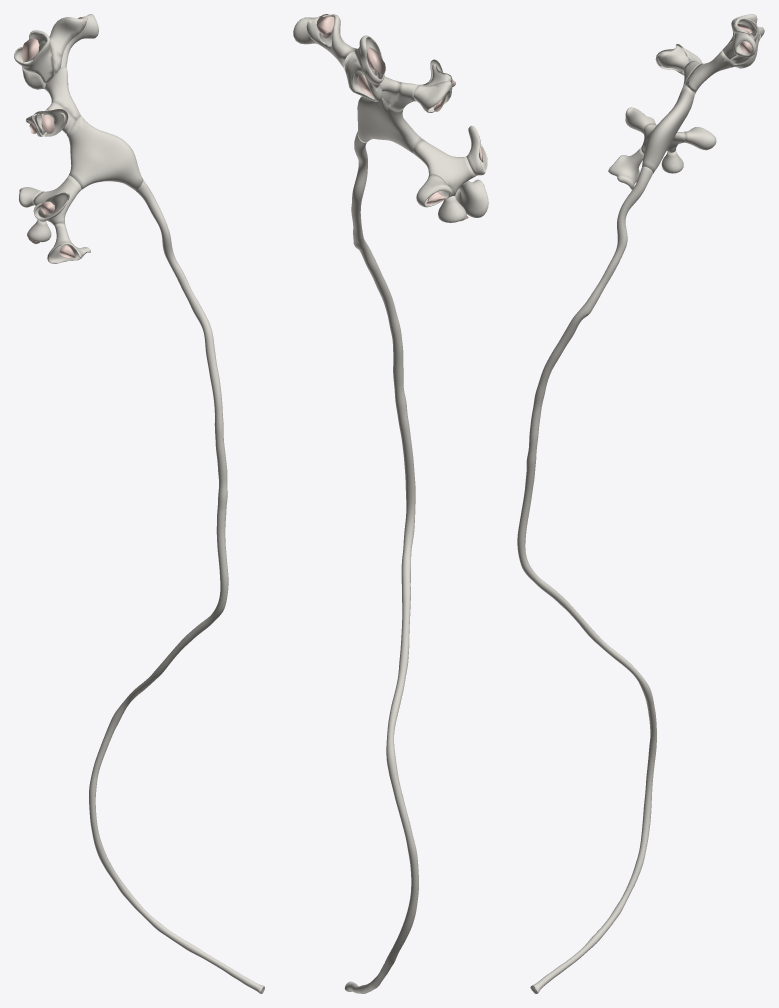
Rendered from vh_f_ureter_r-80.glb.
3 views of the same model, side by side, from view 1: azimuth 30°, elevation 25°; view 2: azimuth 150°, elevation 25°; view 3: azimuth 270°, elevation 25° (orthographic). The views are drawn at different scales.
Visible parts, largest first — view 1: VH_F_right_ureter, VH_F_renal_pelvis_R, VH_F_minor_calyx_R_b, VH_F_minor_calyx_R_d, VH_F_major_calyx_R_a, VH_F_major_calyx_R_c, VH_F_minor_calyx_R_j, VH_F_minor_calyx_R_f; view 2: VH_F_right_ureter, VH_F_renal_pelvis_R, VH_F_major_calyx_R_c, VH_F_minor_calyx_R_b, VH_F_minor_calyx_R_j, VH_F_minor_calyx_R_c, VH_F_minor_calyx_R_e, VH_F_minor_calyx_R_d, VH_F_minor_calyx_R_g, VH_F_minor_calyx_R_i, VH_F_minor_calyx_R_h, VH_F_major_calyx_R_b; view 3: VH_F_right_ureter, VH_F_renal_pelvis_R, VH_F_minor_calyx_R_j, VH_F_major_calyx_R_a, VH_F_minor_calyx_R_f.
Boxes of the visible parts, x1=… form: VH_F_right_ureter: x1=89, y1=180, x2=264, y2=993; VH_F_renal_pelvis_R: x1=67, y1=116, x2=143, y2=190; VH_F_minor_calyx_R_b: x1=49, y1=16, x2=87, y2=75; VH_F_minor_calyx_R_d: x1=14, y1=30, x2=53, y2=83; VH_F_major_calyx_R_a: x1=44, y1=66, x2=80, y2=120; VH_F_major_calyx_R_c: x1=33, y1=175, x2=81, y2=225; VH_F_minor_calyx_R_j: x1=47, y1=223, x2=90, y2=263; VH_F_minor_calyx_R_f: x1=33, y1=109, x2=68, y2=136; VH_F_right_ureter: x1=344, y1=132, x2=418, y2=993; VH_F_renal_pelvis_R: x1=357, y1=96, x2=422, y2=153; VH_F_major_calyx_R_c: x1=412, y1=139, x2=475, y2=196; VH_F_minor_calyx_R_b: x1=306, y1=14, x2=356, y2=72; VH_F_minor_calyx_R_j: x1=455, y1=179, x2=488, y2=217; VH_F_minor_calyx_R_c: x1=344, y1=51, x2=382, y2=101; VH_F_minor_calyx_R_e: x1=414, y1=81, x2=452, y2=112; VH_F_minor_calyx_R_d: x1=354, y1=35, x2=384, y2=88; VH_F_minor_calyx_R_g: x1=416, y1=174, x2=452, y2=207; VH_F_minor_calyx_R_i: x1=466, y1=125, x2=487, y2=175; VH_F_minor_calyx_R_h: x1=438, y1=196, x2=466, y2=222; VH_F_major_calyx_R_b: x1=390, y1=82, x2=418, y2=110; VH_F_right_ureter: x1=517, y1=166, x2=656, y2=993; VH_F_renal_pelvis_R: x1=642, y1=85, x2=694, y2=173; VH_F_minor_calyx_R_j: x1=608, y1=147, x2=644, y2=189; VH_F_major_calyx_R_a: x1=684, y1=49, x2=734, y2=94; VH_F_minor_calyx_R_f: x1=655, y1=44, x2=691, y2=72.
Bounding box in the file's own units: 0.0518 × 0.2627 × 0.0632.
